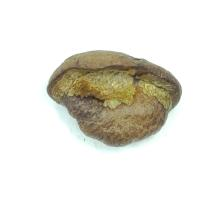NG: (48, 62, 174, 147)
